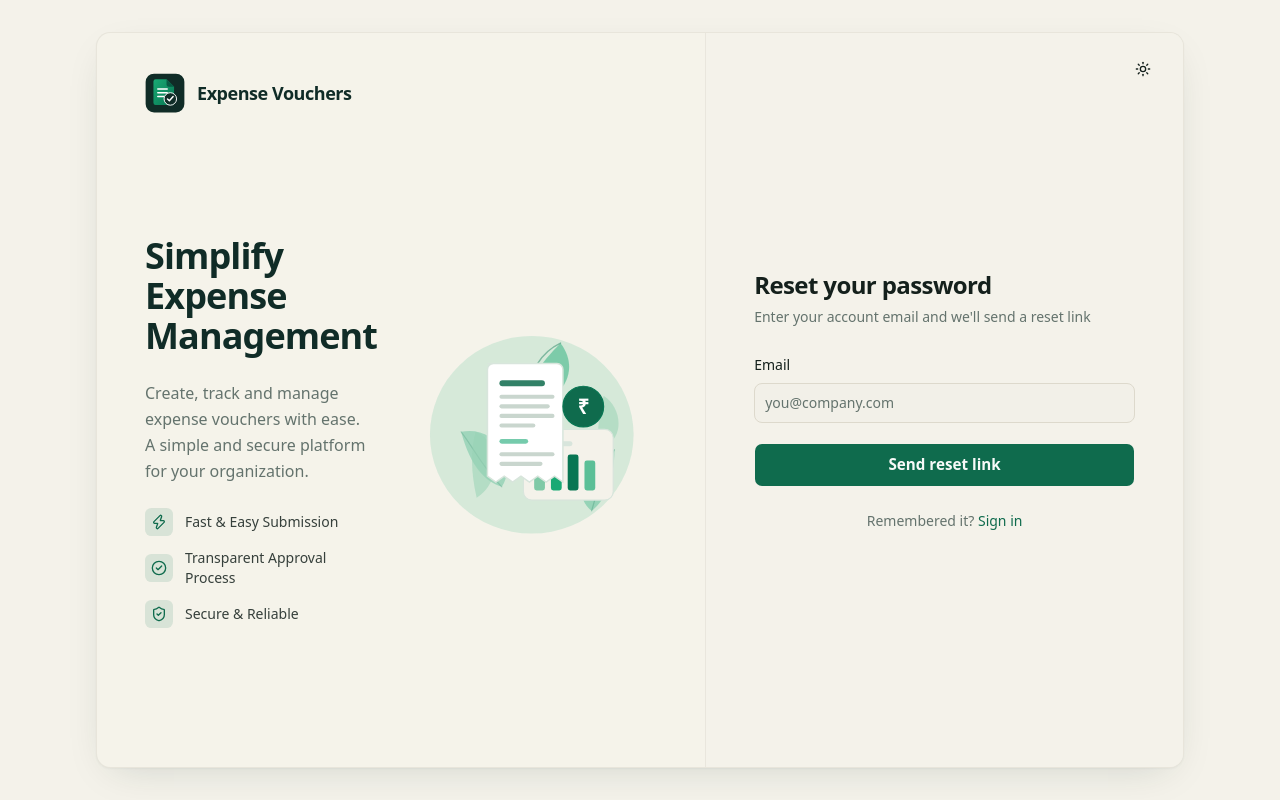
Test: forgot-password page › validates the email before submitting
This screenshot has width=1280, height=800.
Click the button "Send reset link" at (945, 465), box [754,443,1135,487]
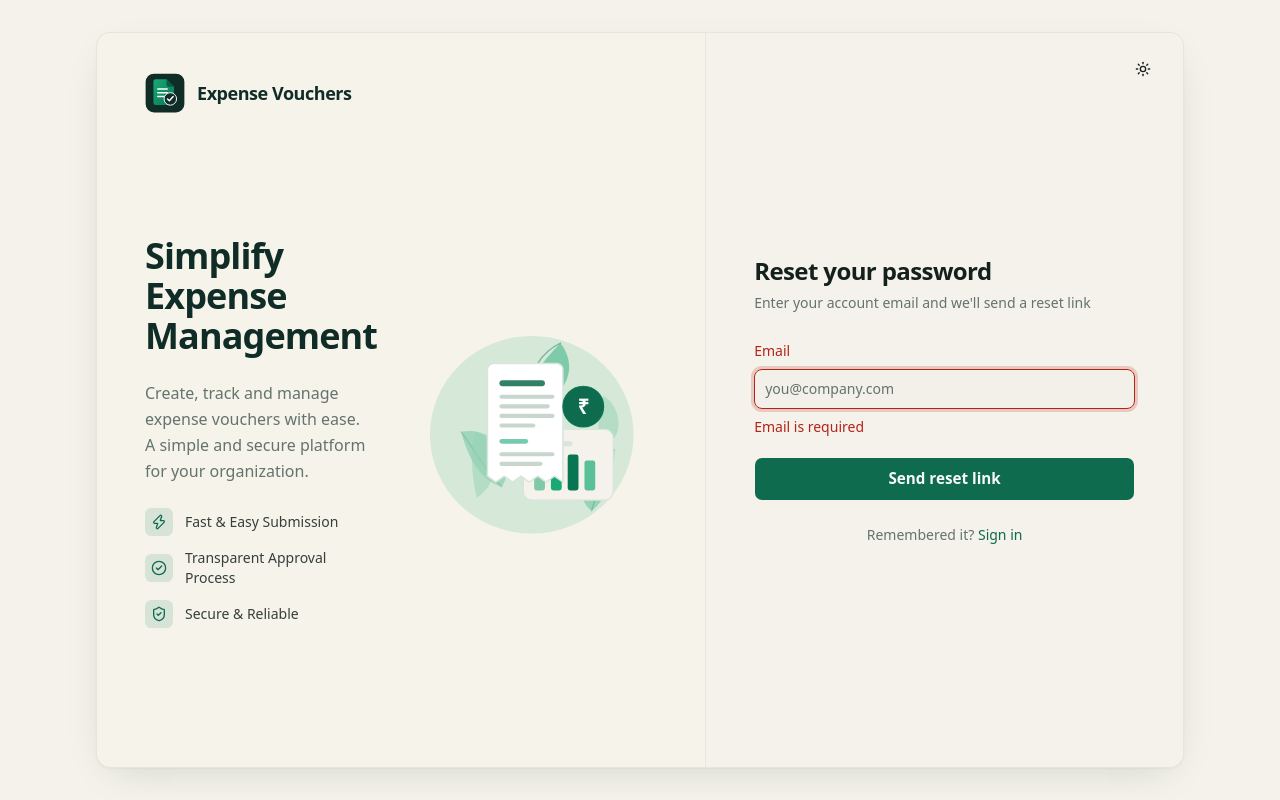
Check: the text "Email is required" is shown, box [754,417,864,436]
